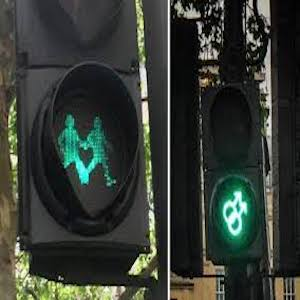green: (55, 110, 131, 184)
